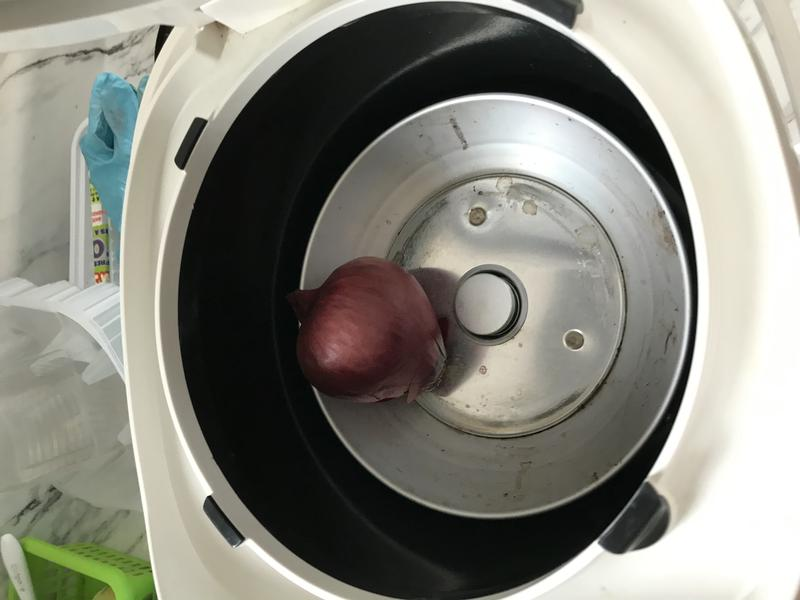purple_onion: (269, 249, 458, 415)
